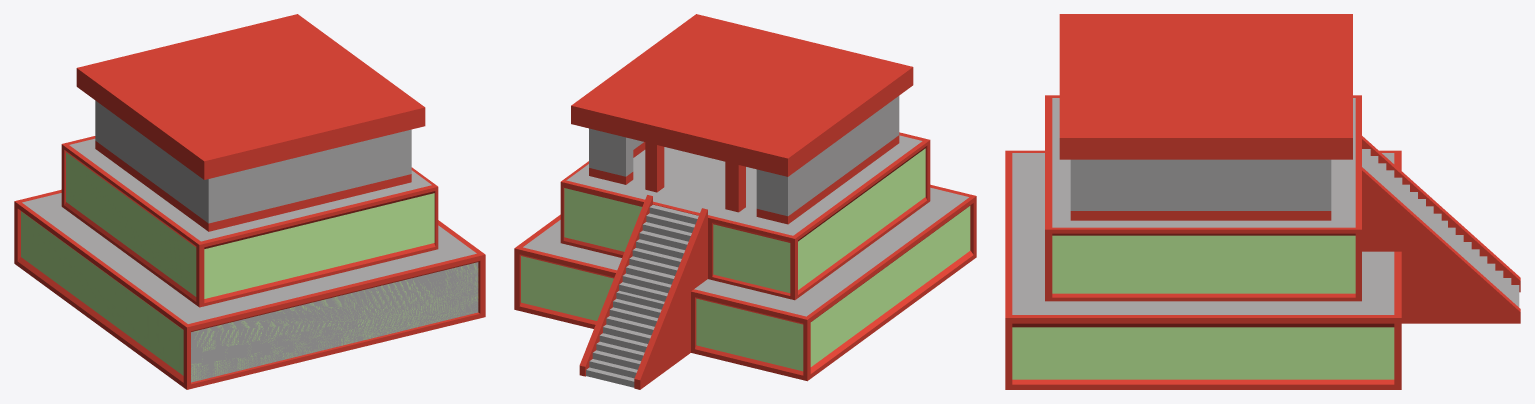
Rendered from AztecBuilding1.fbx.
3 renders of one model, left to right at view 1: azimuth 30°, elevation 25°; view 2: azimuth 150°, elevation 25°; view 3: azimuth 270°, elevation 25°, orthographic. The views are drawn at different scales.
Visible parts, largest first — view 1: Cube.020; view 2: Cube.020; view 3: Cube.020.
Part boxes in pixels (left/top/right/bottom): Cube.020: left=14, top=14, right=485, bottom=389; Cube.020: left=514, top=14, right=976, bottom=389; Cube.020: left=1005, top=14, right=1520, bottom=389.
Bounding box in the file's own units: 1000 × 644 × 1300.
